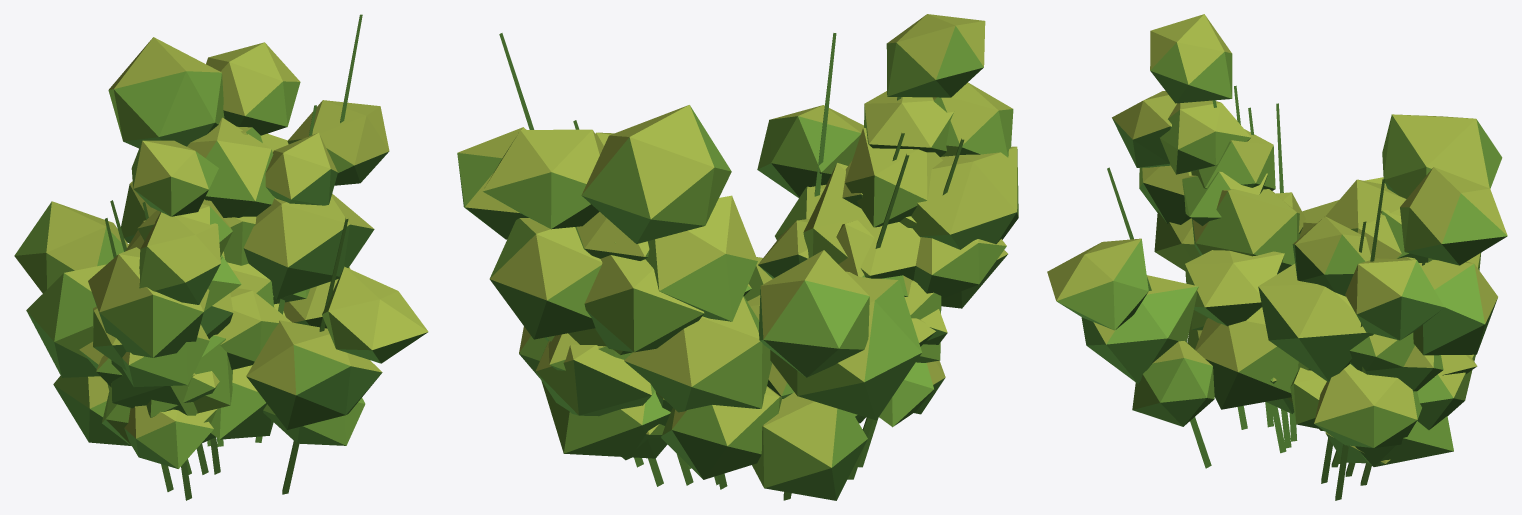
Rendered from F14_HagonoyWeedShrub.glb.
3 views of the same model, side by side, from view 1: azimuth 30°, elevation 25°; view 2: azimuth 150°, elevation 25°; view 3: azimuth 270°, elevation 25° (orthographic). The views are drawn at different scales.
Parts seen in each view (by area): view 1: F14_HagonoyWeedShrub; view 2: F14_HagonoyWeedShrub; view 3: F14_HagonoyWeedShrub.
Part boxes in pixels (left/top/right/bottom): F14_HagonoyWeedShrub: left=14, top=14, right=428, bottom=500; F14_HagonoyWeedShrub: left=457, top=14, right=1018, bottom=500; F14_HagonoyWeedShrub: left=1047, top=14, right=1507, bottom=500.
Size of the model in its own units: 1.49 by 1.43 by 1.55.
